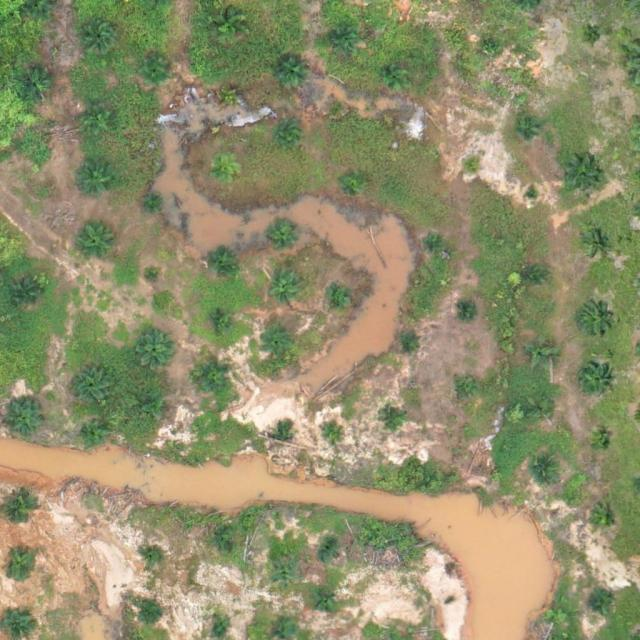Grass: (76, 364, 115, 404), (82, 17, 121, 56), (16, 66, 55, 105), (327, 26, 358, 57), (135, 394, 166, 425)
Small: (74, 153, 121, 200), (7, 398, 46, 438), (134, 327, 174, 366), (578, 362, 617, 402), (77, 223, 116, 262), (197, 359, 236, 398), (561, 158, 600, 197), (4, 551, 35, 583), (4, 492, 35, 524), (214, 10, 245, 42), (275, 60, 306, 92), (209, 158, 240, 190), (268, 221, 299, 253), (580, 302, 611, 334), (588, 504, 619, 536), (528, 337, 559, 369), (217, 78, 248, 110), (12, 274, 43, 305), (84, 110, 115, 141), (205, 246, 236, 277), (271, 274, 302, 305), (263, 328, 294, 359), (80, 417, 111, 448), (588, 592, 612, 616), (521, 265, 545, 289), (142, 191, 166, 215), (385, 65, 409, 89), (480, 37, 504, 61), (582, 25, 606, 49), (460, 156, 484, 180), (212, 309, 236, 333), (142, 544, 166, 568), (212, 615, 236, 639), (317, 587, 341, 611), (317, 540, 341, 564), (145, 58, 169, 81), (329, 289, 352, 313), (590, 433, 614, 456), (588, 230, 611, 254), (459, 300, 483, 323), (381, 409, 404, 433), (532, 399, 556, 422), (25, 142, 48, 166), (513, 118, 536, 142), (324, 94, 347, 118), (143, 262, 166, 286), (321, 424, 344, 448), (136, 603, 160, 626), (219, 540, 242, 564), (273, 563, 296, 587), (278, 125, 301, 148), (533, 460, 556, 483), (395, 330, 418, 353), (456, 379, 479, 402), (343, 171, 366, 194), (425, 232, 448, 255), (273, 428, 288, 444), (525, 187, 540, 202)
